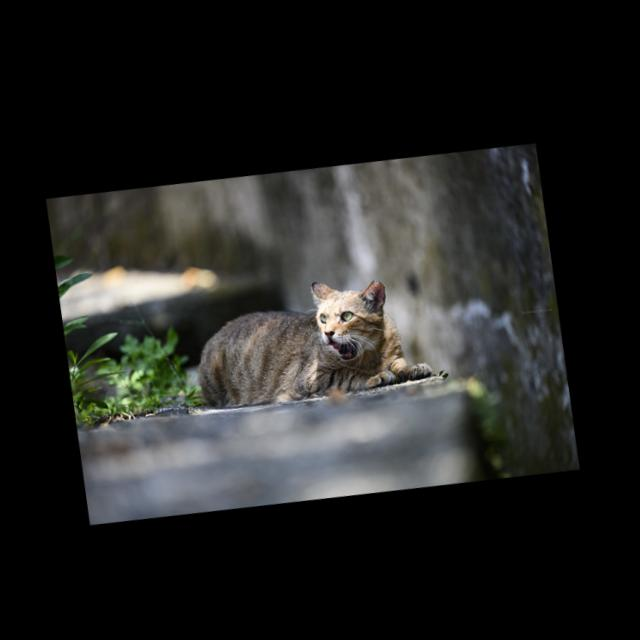animals: (188, 259, 437, 418)
